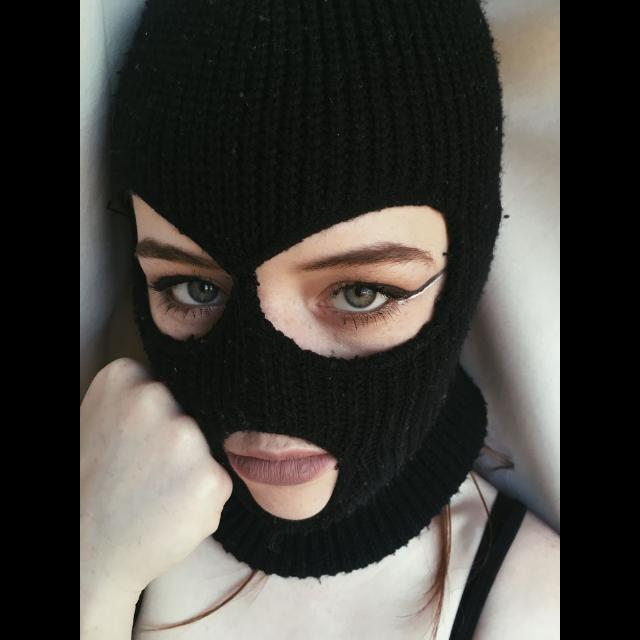criminal: (77, 0, 560, 640)
